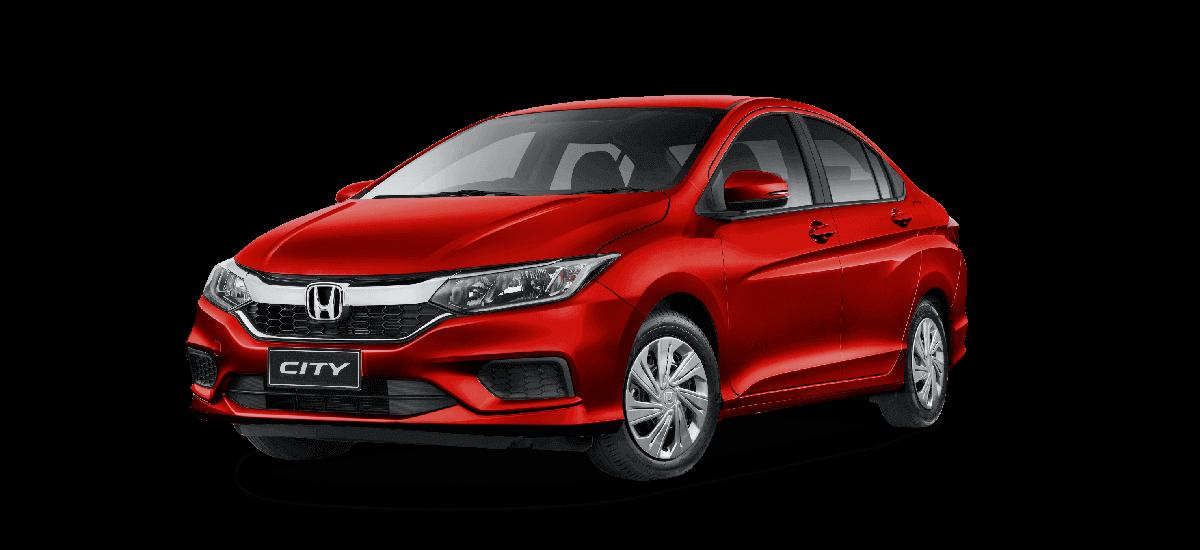Sedan: (163, 70, 1000, 497)
